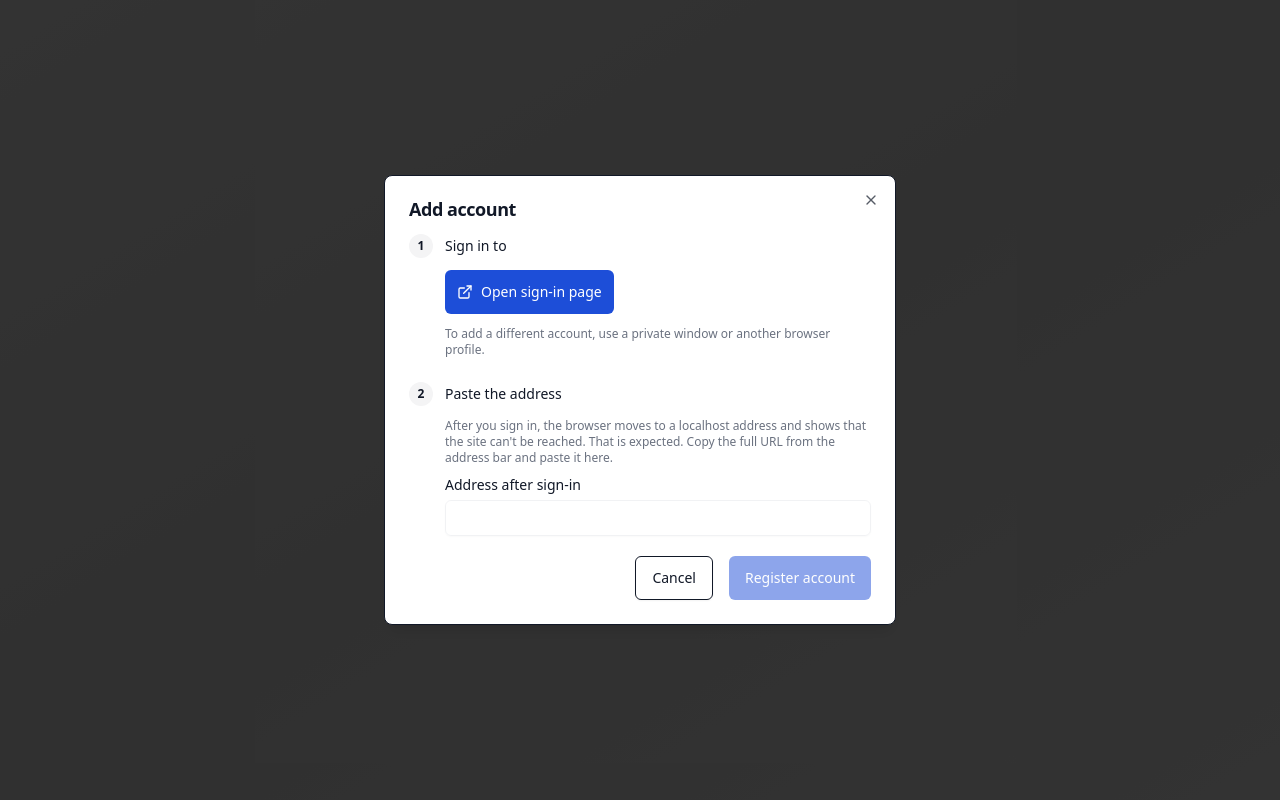
Test: ProxyAddAccountDialog › counts down to the link expiry, then blocks registration until a new link is made
Later steps or results of the test are not shown.
Step 1. Click the button "Open sign-in page" → point(529, 292), box [445,270,614,314]
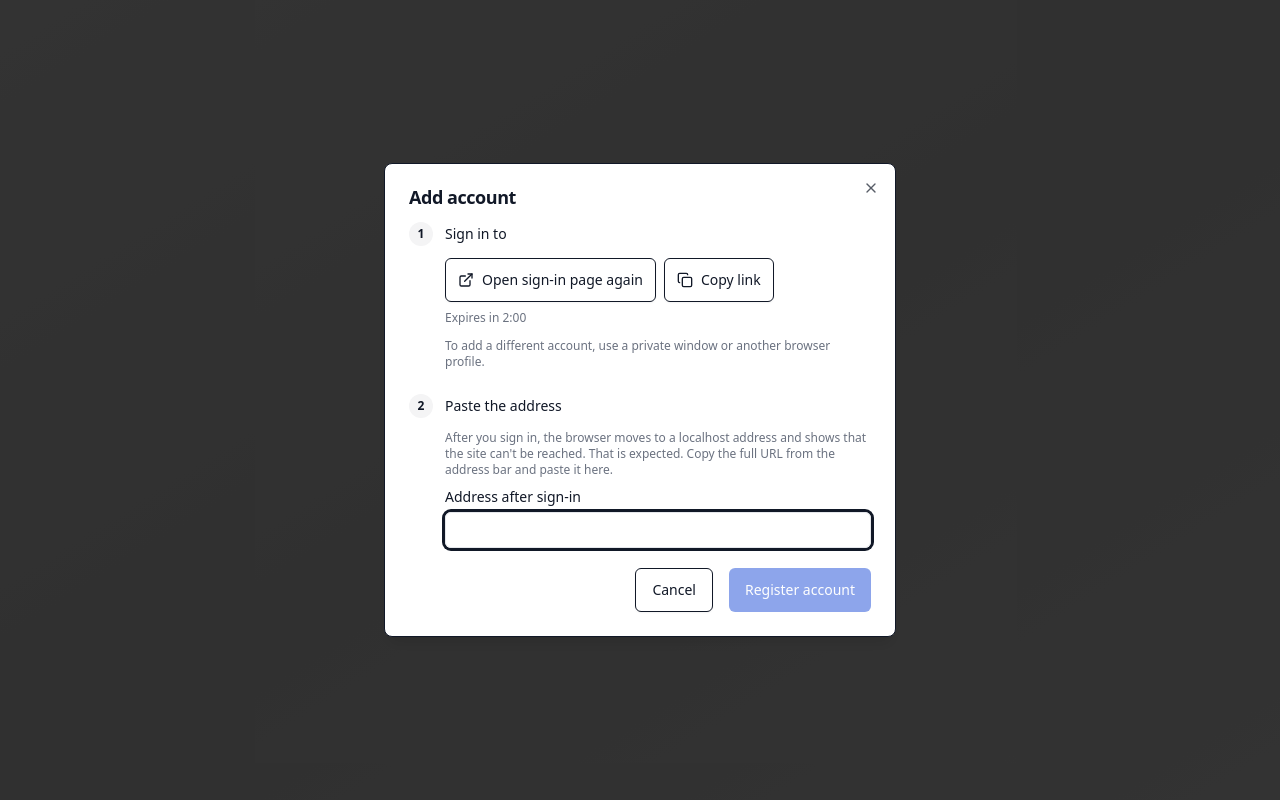
Check: the text "Expires in 2:00" is shown, box [445,309,526,326]
Step 2. Type "http://localhost:54545/callback?code=one-time&state=state-1" into the field labelled "Address after sign-in" → point(658, 530), box [445,512,871,548]
Wait 120000 ms
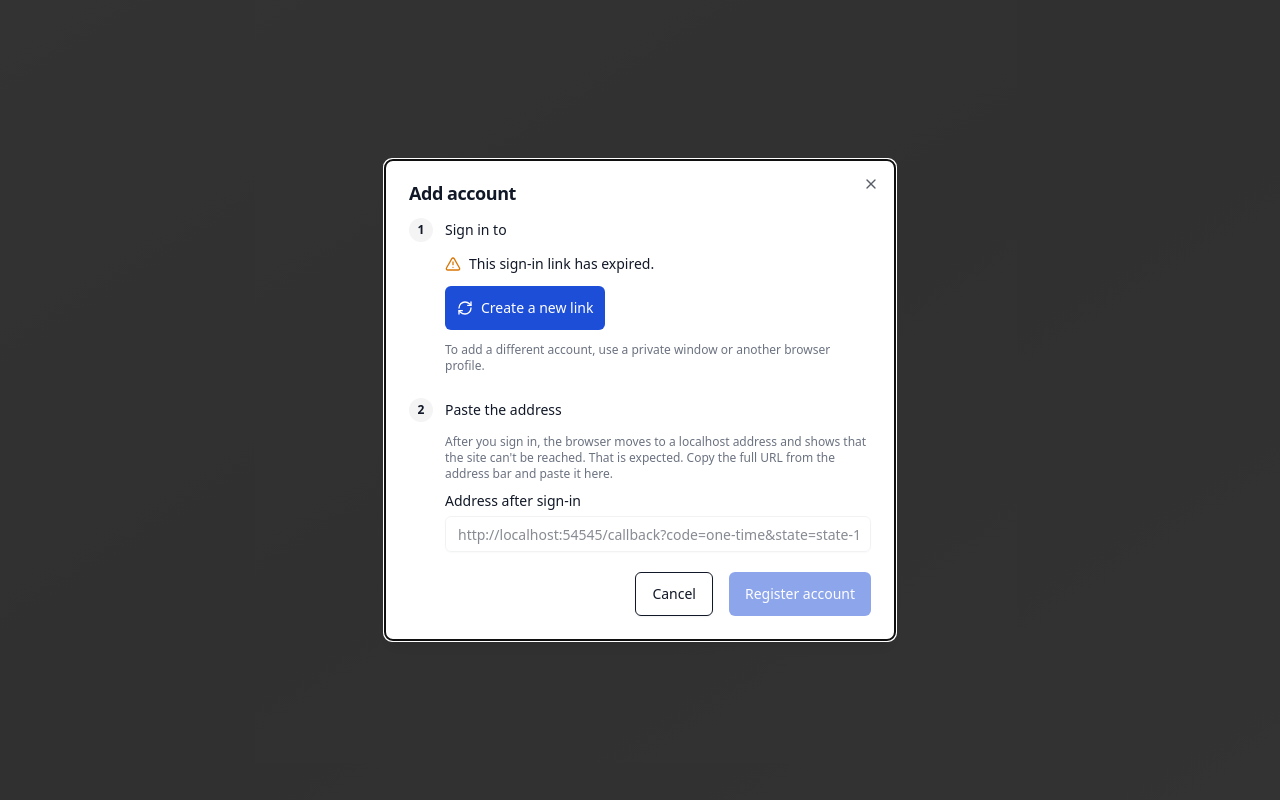
Check: the button "Register account" is disabled, box [729,572,871,616]
Check: the message reads "This sign-in link has expired.", box [469,254,654,273]
Check: the field labelled "Address after sign-in" is disabled, box [445,516,871,552]
Step 3. Click the button "Create a new link" → point(525, 308), box [445,286,606,330]
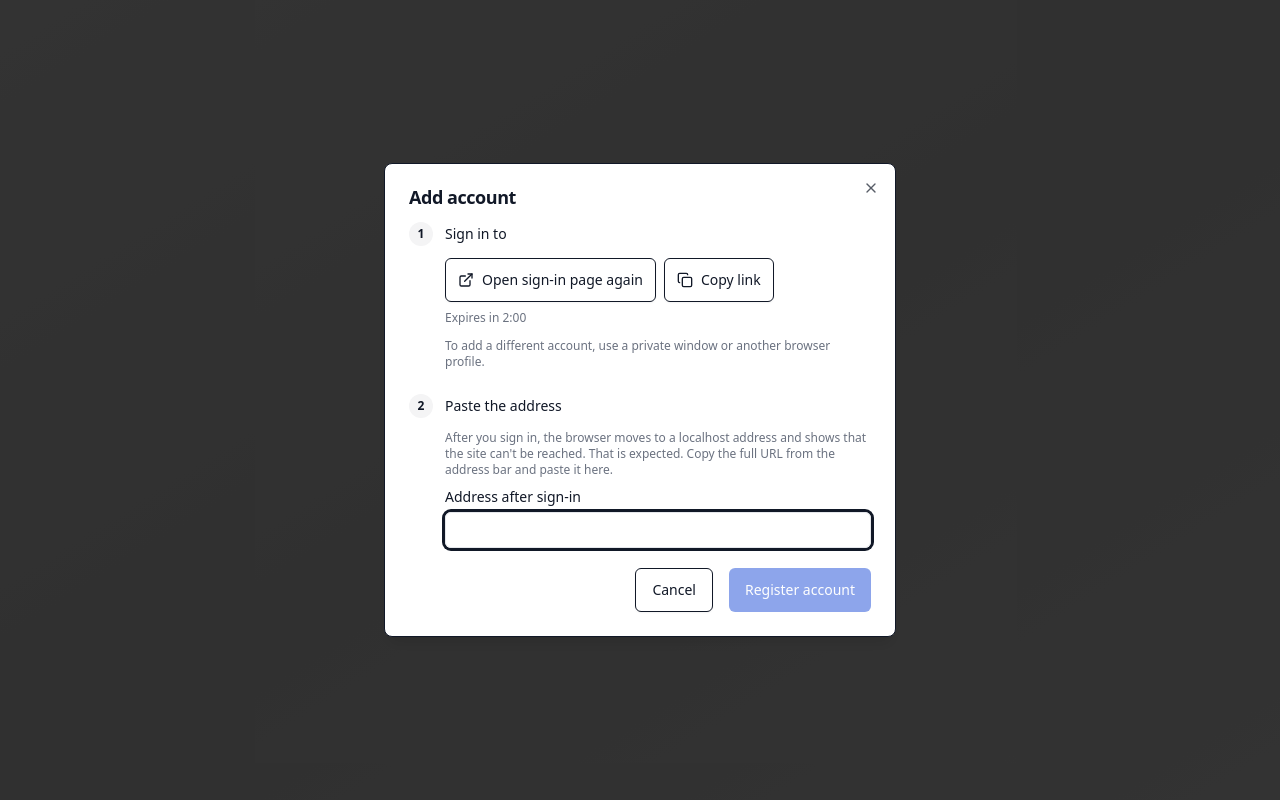
Check: the text "Expires in 2:00" is shown, box [445,309,526,326]
Check: the field labelled "Address after sign-in" is enabled, box [445,512,871,548]
Check: the field labelled "Address after sign-in" is empty, box [445,512,871,548]
